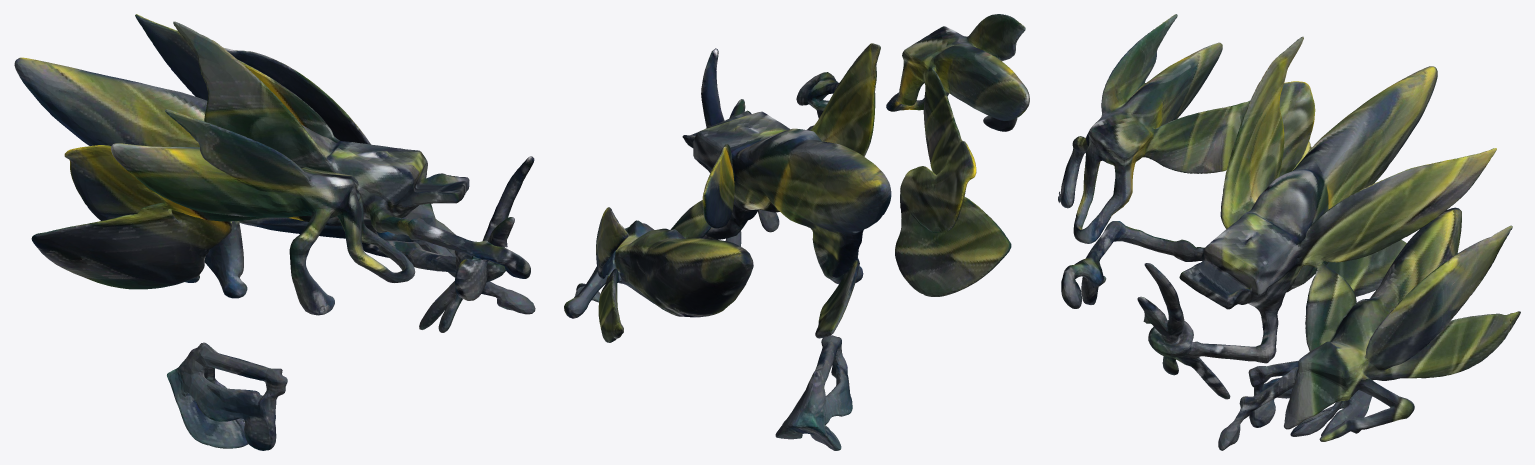
The model's file is terraforming_machinery.glb.
3 views of the same model, side by side, from view 1: azimuth 30°, elevation 25°; view 2: azimuth 150°, elevation 25°; view 3: azimuth 270°, elevation 25° (orthographic). The views are drawn at different scales.
Size of the model in its own units: 1.95 by 1.79 by 2.
1 material, 1 textured.
